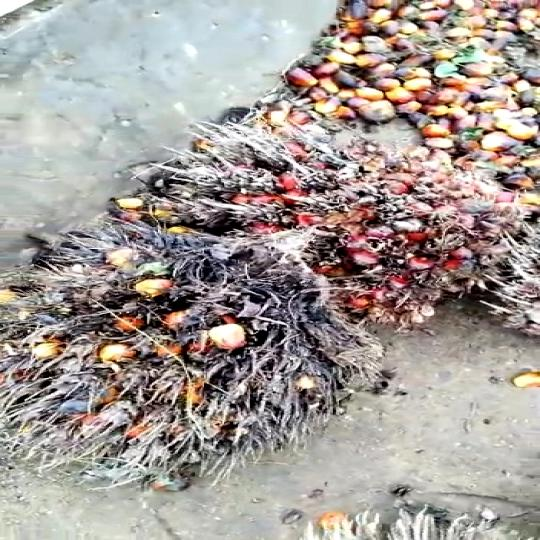terlalu masak: (0, 228, 399, 477), (161, 130, 540, 305)
